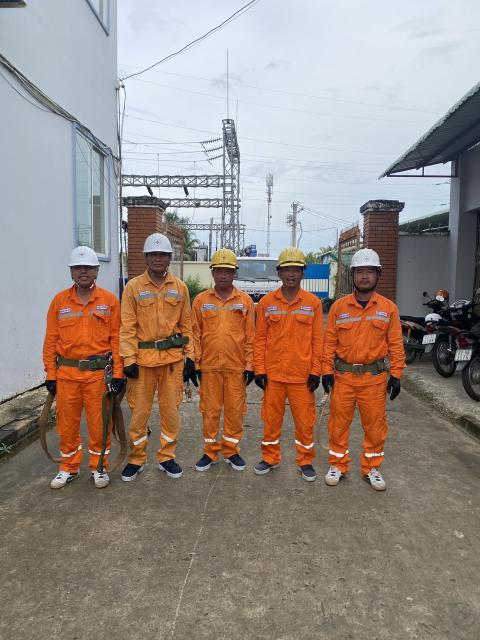gloves: (256, 369, 280, 409), (304, 367, 325, 406), (386, 367, 403, 407), (110, 370, 132, 399), (47, 378, 75, 400), (240, 365, 262, 390), (181, 358, 201, 385), (192, 364, 208, 393), (124, 361, 143, 382), (322, 373, 344, 391)
harness: (57, 354, 117, 379), (333, 359, 389, 379), (139, 340, 184, 350)
helmet: (140, 229, 182, 263), (67, 240, 102, 273), (355, 251, 383, 280), (208, 253, 242, 276), (282, 247, 314, 269)
shoes: (42, 459, 85, 494), (121, 451, 148, 489), (157, 459, 187, 484), (293, 459, 319, 487), (257, 457, 282, 486), (228, 448, 247, 479), (92, 462, 111, 491), (193, 448, 212, 476), (363, 469, 385, 492), (328, 461, 345, 485)
